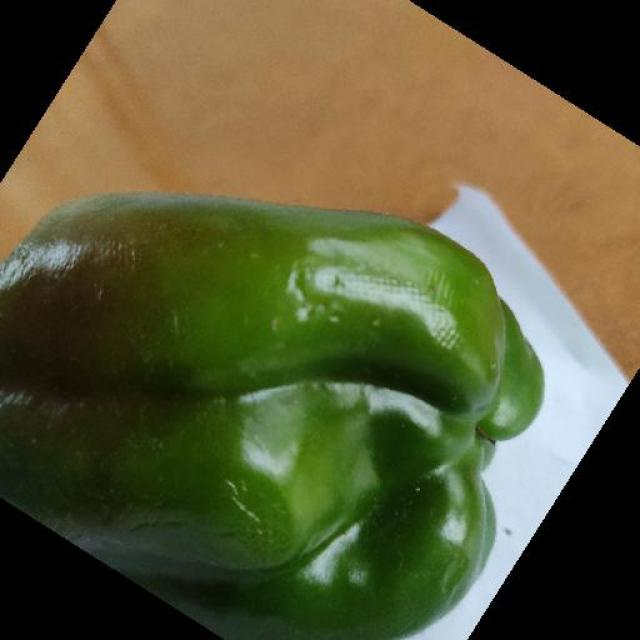Stale_Capsicum: (0, 137, 510, 628)
